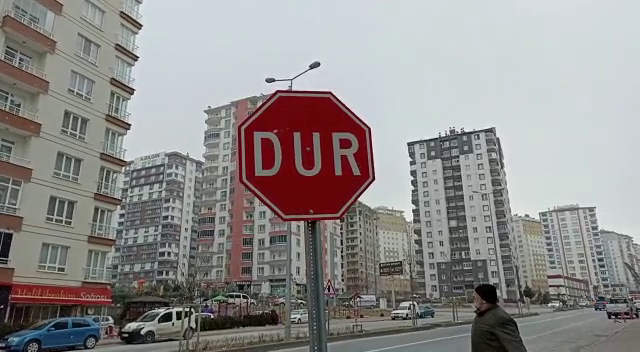stop: (235, 89, 378, 223)
